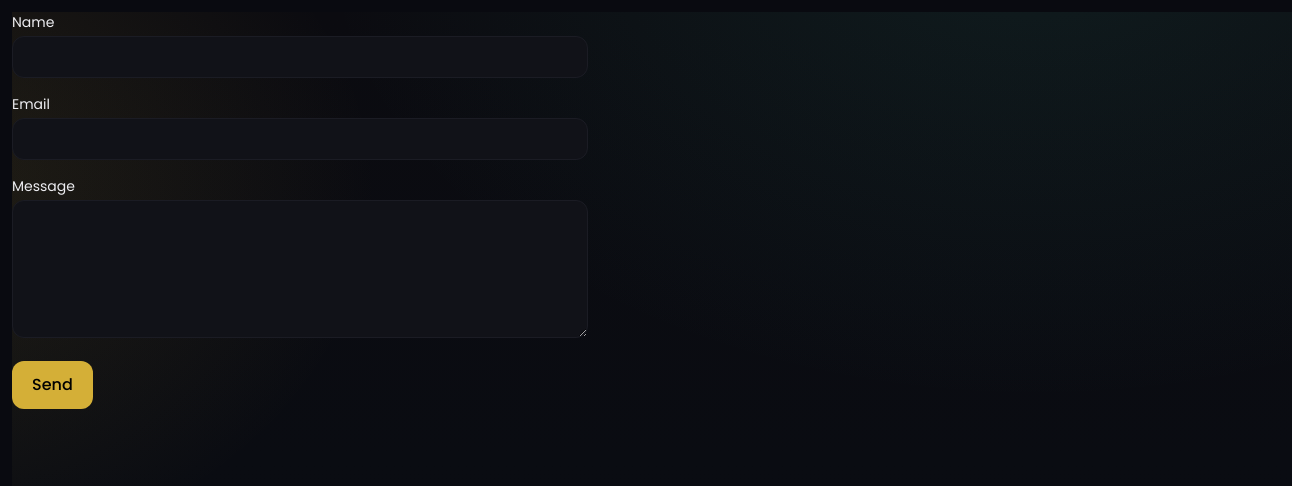
Test: ContactForm › shows client-side validation errors and does not submit when fields are invalid
The width and height of the screenshot is (1292, 486).
Click the button "Send".
click(52, 385)  # box [12,361,93,409]
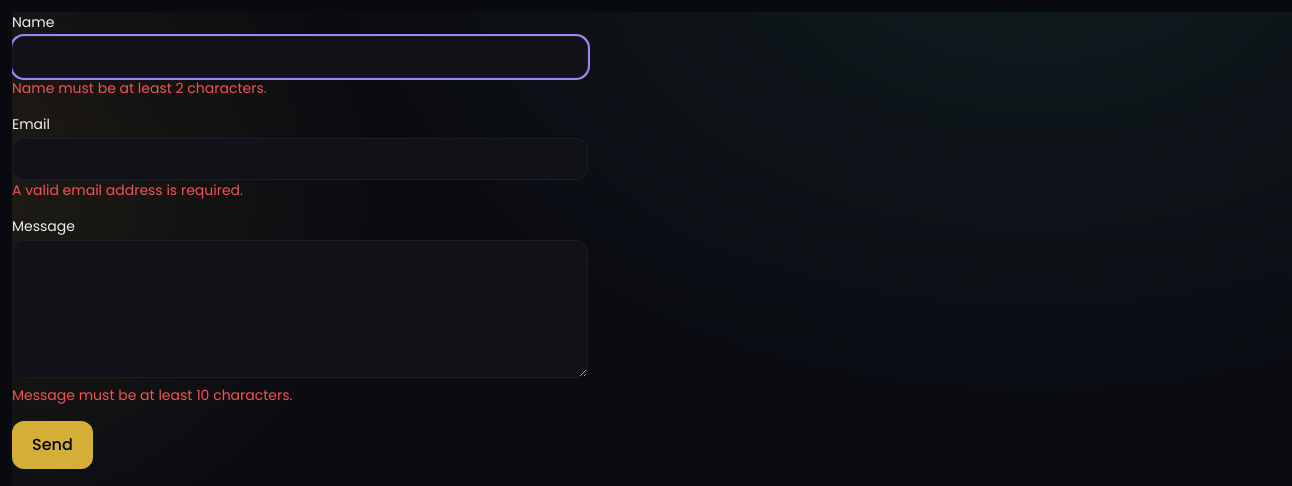
expect the text "Name must be at least 2 characters." is shown: met, box [12,78,267,98]
